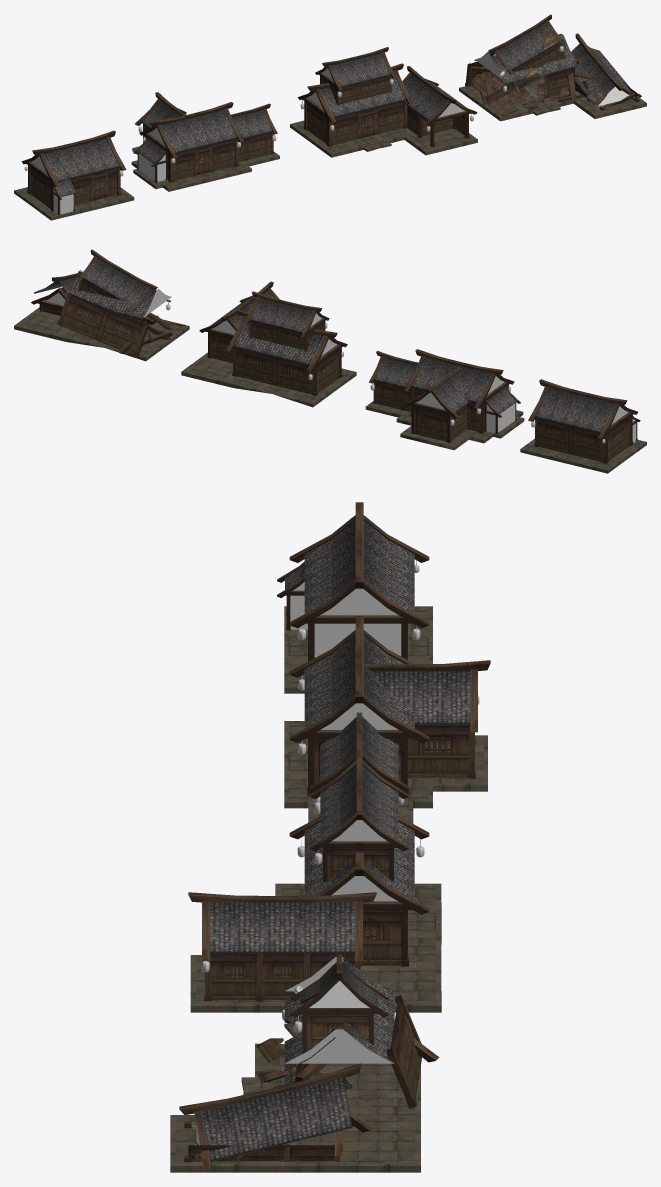
Rendered from s7_3minjuall.FBX.
3 views of the same model, one above another, from view 1: azimuth 30°, elevation 25°; view 2: azimuth 150°, elevation 25°; view 3: azimuth 270°, elevation 25° (orthographic). The views are drawn at different scales.
Parts seen in each view (by area): view 1: s7_minjucityC, s7_minjucityB, s7_minjucityD, s7_minjuAcity, Rectangle001, Rectangle002; view 2: s7_minjucityB, s7_minjucityC, s7_minjucityD, s7_minjuAcity, Rectangle001, Rectangle002; view 3: s7_minjucityC, s7_minjucityB, s7_minjucityD, s7_minjuAcity, Rectangle002, Rectangle001.
Part boxes in pixels (x1,y1,x2,y2): s7_minjucityC: [298, 47, 477, 146]; s7_minjucityB: [131, 92, 279, 191]; s7_minjucityD: [465, 14, 641, 116]; s7_minjuAcity: [14, 130, 134, 220]; Rectangle001: [290, 120, 477, 157]; Rectangle002: [459, 73, 646, 121]; s7_minjucityB: [365, 349, 524, 450]; s7_minjucityC: [199, 281, 347, 395]; s7_minjucityD: [31, 249, 185, 357]; s7_minjuAcity: [520, 379, 646, 473]; Rectangle001: [181, 352, 356, 407]; Rectangle002: [14, 292, 189, 361]; s7_minjucityC: [188, 750, 429, 1001]; s7_minjucityB: [284, 617, 490, 823]; s7_minjucityD: [179, 954, 439, 1170]; s7_minjuAcity: [277, 502, 432, 693]; Rectangle002: [170, 1043, 420, 1172]; Rectangle001: [190, 883, 441, 1012].
Size of the model in its own units: 5628 by 739 by 1368.
